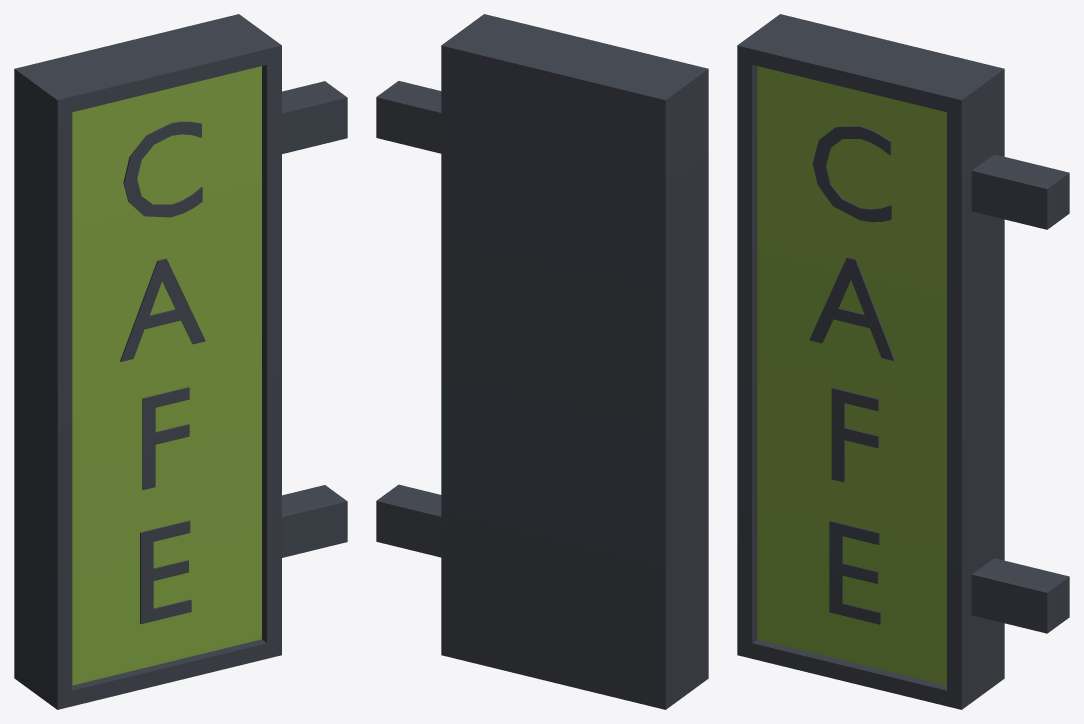
The model's file is Banner_05.fbx.
The picture shows the model from 3 angles, left to right: view 1: azimuth 30°, elevation 25°; view 2: azimuth 150°, elevation 25°; view 3: azimuth 330°, elevation 25°; orthographic projection.
Visible parts, largest first — view 1: Banner_05; view 2: Banner_05; view 3: Banner_05.
Boxes of the visible parts, x1,y1,x2,y2 form: Banner_05: [14, 14, 347, 709]; Banner_05: [376, 14, 708, 709]; Banner_05: [737, 14, 1069, 709].
Bounding box in the file's own units: 1.13 × 2.19 × 0.2801.
